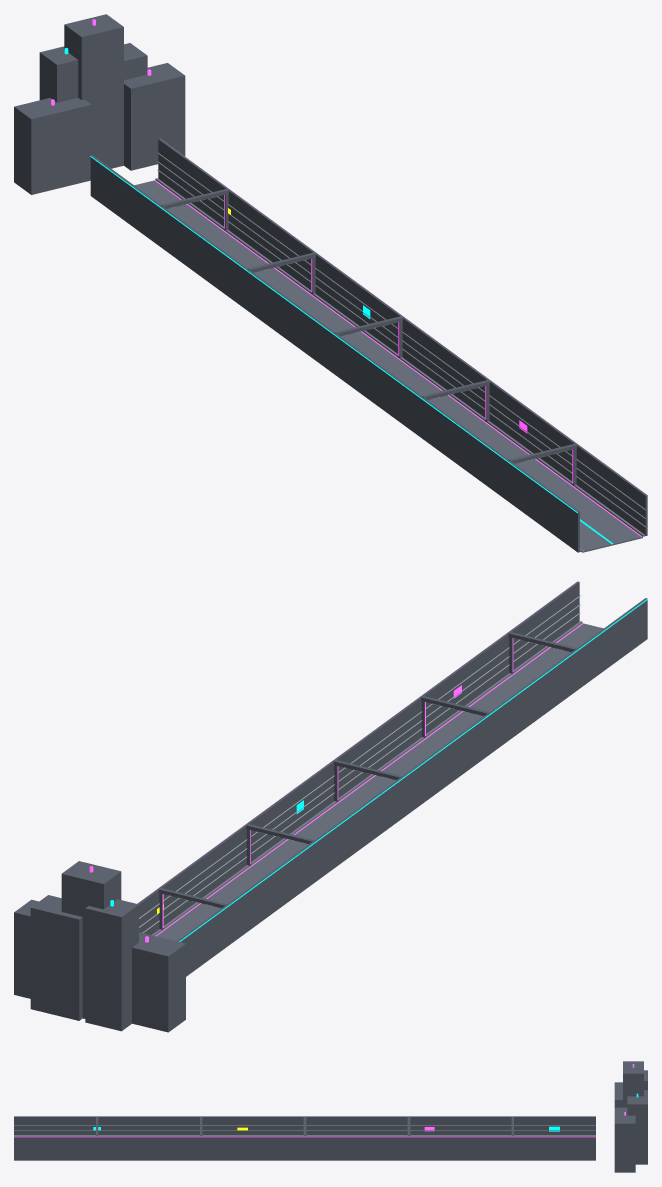
File: escenario_ciudad.glb
The picture shows the model from 3 angles, top to bottom: view 1: azimuth 30°, elevation 25°; view 2: azimuth 150°, elevation 25°; view 3: azimuth 270°, elevation 25°; orthographic projection. The views are drawn at different scales.
Visible parts, largest first — view 1: Cyber_Wall_-5.6, Cyber_Wall_5.6, Cyber_Floor, Cyber_Skyscraper_0, Cyber_Skyscraper_2, Cyber_Skyscraper_4, Cyber_Skyscraper_1, Cyber_Curb_5.15, Cube, Cyber_SideStripe_4.85, Cylinder.003, Cylinder.005 (+1 smaller); view 2: Cyber_Wall_-5.6, Cyber_Wall_5.6, Cyber_Floor, Cyber_Skyscraper_1, Cyber_Skyscraper_3, Cyber_Skyscraper_0, Cyber_Skyscraper_2, Cyber_Curb_5.15, Cyber_Skyscraper_4, Cube, Cylinder.005, Cylinder.003 (+2 smaller); view 3: Cyber_Wall_5.6, Cyber_Wall_-5.6, Cyber_Skyscraper_4, Cube.001, Cyber_Skyscraper_3, Cyber_Skyscraper_2, Cylinder, Cylinder.001, Cylinder.002, Cyber_Skyscraper_0.
Boxes of the visible parts, x1,y1,x2,y2 form: Cyber_Wall_-5.6: (90, 155, 579, 552); Cyber_Wall_5.6: (158, 138, 647, 535); Cyber_Floor: (134, 180, 642, 552); Cyber_Skyscraper_0: (14, 98, 91, 194); Cyber_Skyscraper_2: (64, 14, 123, 168); Cyber_Skyscraper_4: (124, 63, 185, 170); Cyber_Skyscraper_1: (39, 46, 78, 102); Cyber_Curb_5.15: (155, 178, 644, 536); Cube: (90, 156, 577, 513); Cyber_SideStripe_4.85: (154, 180, 642, 536); Cylinder.003: (157, 169, 645, 527); Cylinder.005: (157, 152, 645, 510); Cyber_Wall_-5.6: (177, 598, 647, 976); Cyber_Wall_5.6: (137, 581, 579, 934); Cyber_Floor: (156, 623, 603, 941); Cyber_Skyscraper_1: (85, 899, 138, 1031); Cyber_Skyscraper_3: (30, 895, 82, 1020); Cyber_Skyscraper_0: (132, 932, 185, 1032); Cyber_Skyscraper_2: (61, 861, 121, 1018); Cyber_Curb_5.15: (151, 621, 582, 935); Cyber_Skyscraper_4: (14, 899, 38, 998); Cube: (179, 598, 647, 941); Cylinder.005: (139, 595, 580, 919); Cylinder.003: (142, 612, 580, 933); Cyber_Wall_5.6: (14, 1136, 595, 1160); Cyber_Wall_-5.6: (14, 1116, 595, 1135); Cyber_Skyscraper_4: (614, 1107, 635, 1172); Cube.001: (14, 1136, 595, 1137); Cyber_Skyscraper_3: (627, 1090, 647, 1164); Cyber_Skyscraper_2: (623, 1061, 643, 1107); Cylinder: (14, 1135, 595, 1135); Cylinder.001: (14, 1130, 595, 1130); Cylinder.002: (14, 1125, 595, 1125); Cyber_Skyscraper_0: (614, 1082, 622, 1107).
Size of the model in its own units: 25.5 by 23.1 by 152.
